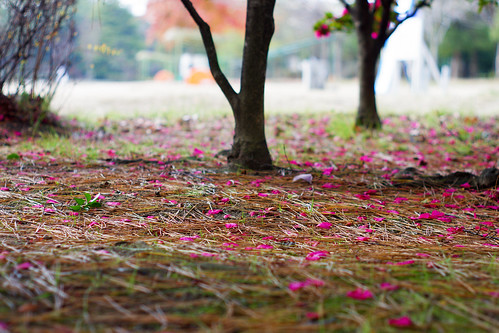grass: (1, 118, 498, 333)
